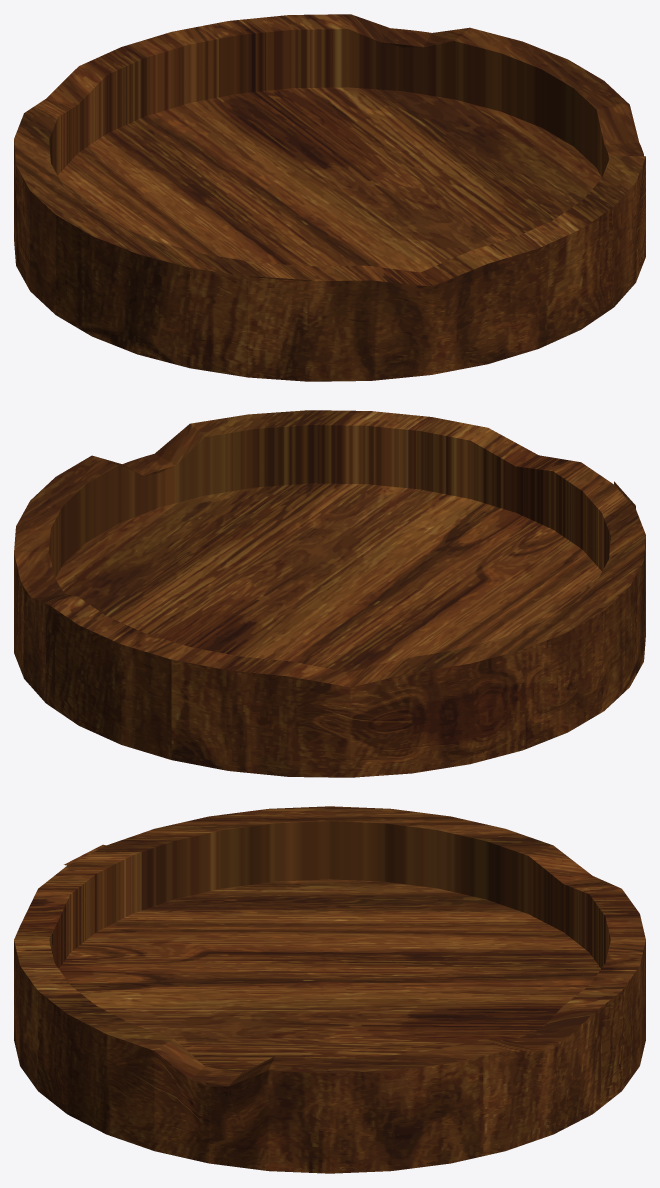
Rendered from AshTrayFinal.fbx.
3 renders of one model, top to bottom at view 1: azimuth 30°, elevation 25°; view 2: azimuth 150°, elevation 25°; view 3: azimuth 270°, elevation 25°, orthographic.
Parts seen in each view (by area): view 1: Ash Traty; view 2: Ash Traty; view 3: Ash Traty.
Boxes of the visible parts, <box> form: Ash Traty: <box>14,14,645,381</box>; Ash Traty: <box>14,410,645,777</box>; Ash Traty: <box>14,806,645,1173</box>.
Size of the model in its own units: 1.49 by 0.2661 by 1.49.
Materials: 1 (1 with a texture image).
